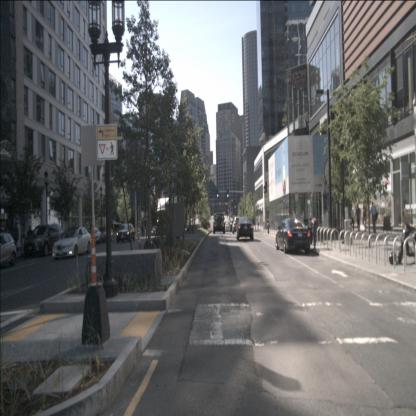human-pedestrian-adult: (308, 216, 318, 250), (370, 201, 378, 235), (13, 222, 20, 253), (355, 204, 362, 232), (362, 202, 368, 232), (349, 203, 355, 233), (21, 228, 27, 255), (28, 225, 34, 251), (266, 219, 270, 234), (257, 220, 259, 231)
movable_object-trafficcone: (87, 223, 103, 289), (136, 224, 144, 258)
vehicle-car: (276, 217, 314, 254), (52, 227, 92, 260), (24, 224, 64, 256), (0, 233, 17, 267), (236, 217, 254, 240), (117, 223, 135, 243), (82, 228, 102, 243), (97, 226, 114, 242), (214, 213, 225, 234), (232, 217, 244, 233), (151, 224, 162, 236), (231, 220, 238, 232), (225, 222, 232, 232)
vehicle-motorcycle: (398, 211, 416, 265)
vehicle-truck: (156, 197, 179, 237)
